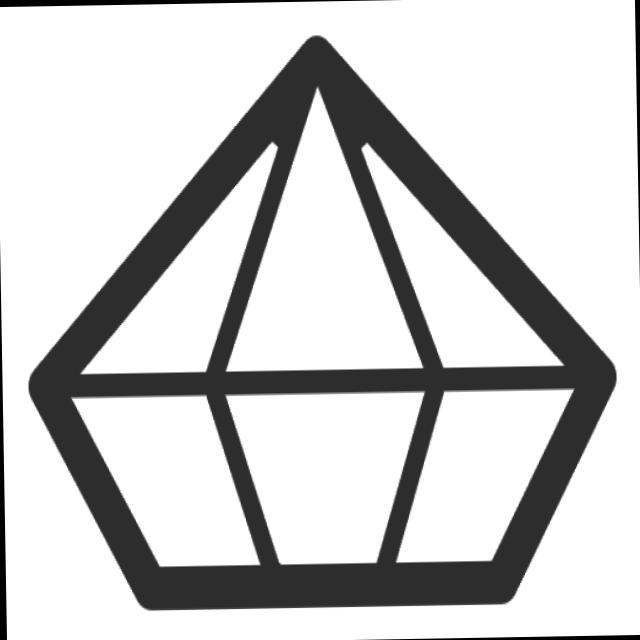diamond: (15, 20, 633, 623)
